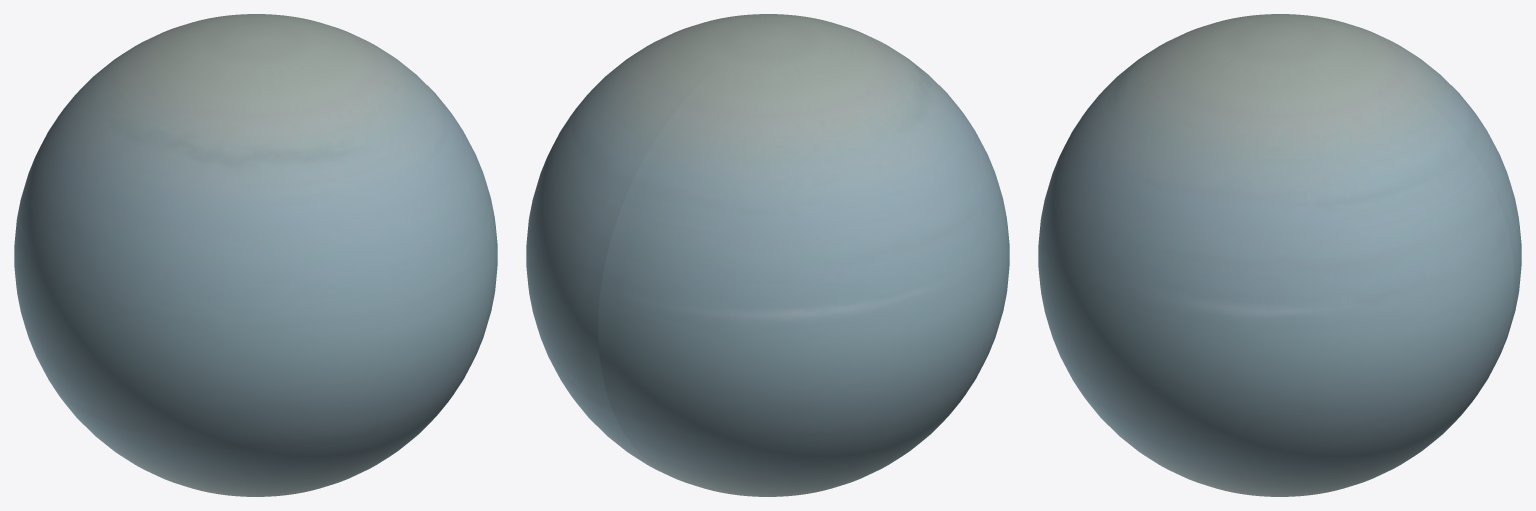
File: Uranus.glb
3 views of the same model, side by side, from view 1: azimuth 30°, elevation 25°; view 2: azimuth 150°, elevation 25°; view 3: azimuth 270°, elevation 25° (orthographic).
Visible parts, largest first — view 1: Uranus; view 2: Uranus; view 3: Uranus.
Boxes of the visible parts, x1,y1,x2,y2 form: Uranus: (14, 14, 497, 496); Uranus: (526, 14, 1009, 496); Uranus: (1038, 14, 1521, 496).
Size of the model in its own units: 0.6 by 0.6 by 0.6.
1 material, 1 textured.
